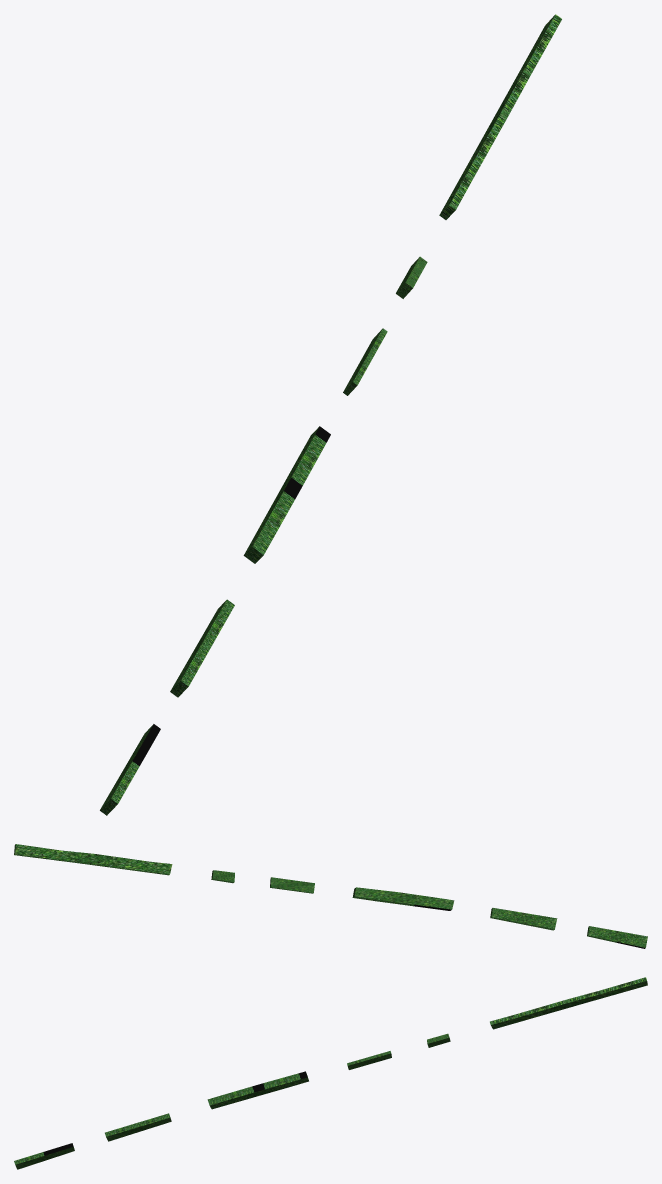
Rendered from data0.glb.
The picture shows the model from 3 angles, top to bottom: view 1: azimuth 30°, elevation 25°; view 2: azimuth 150°, elevation 25°; view 3: azimuth 330°, elevation 25°; orthographic projection. The views are drawn at different scales.
Size of the model in its own units: 110 by 36.32 by 92.47.
1 material, 1 textured.
